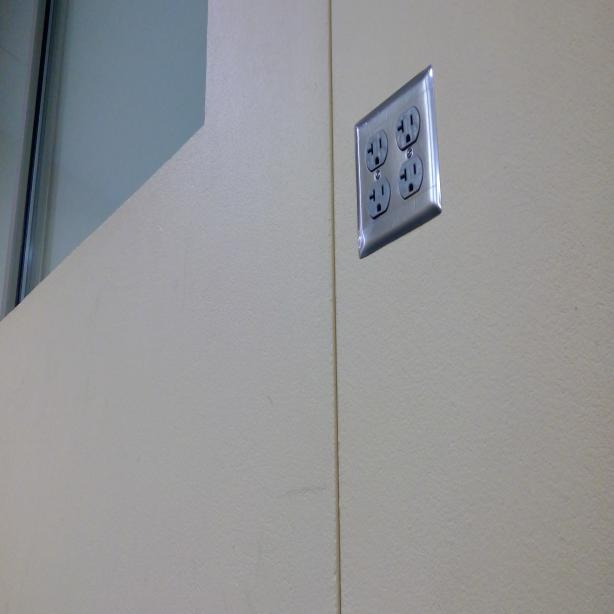typeb: (396, 110, 420, 153), (368, 182, 392, 218), (365, 132, 387, 171), (399, 160, 422, 195)
